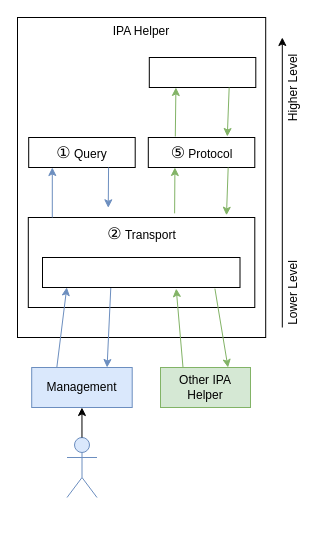
Image size: 320x536. Some labels were removed from this diagram. Each missing label, with the box of its shape:
User: (66, 436, 97, 498)
③ Net (HTTP): (42, 256, 240, 288)
④ IPA: (148, 56, 256, 88)
